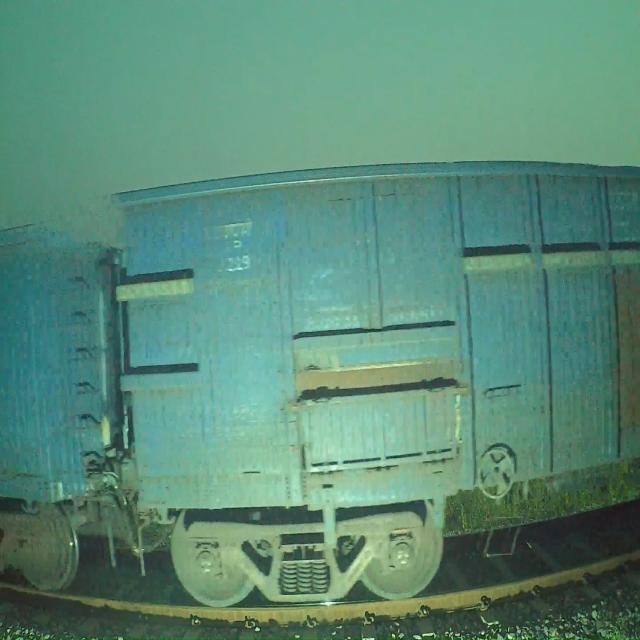WAgon-uic: (111, 159, 640, 604), (0, 221, 185, 589)
